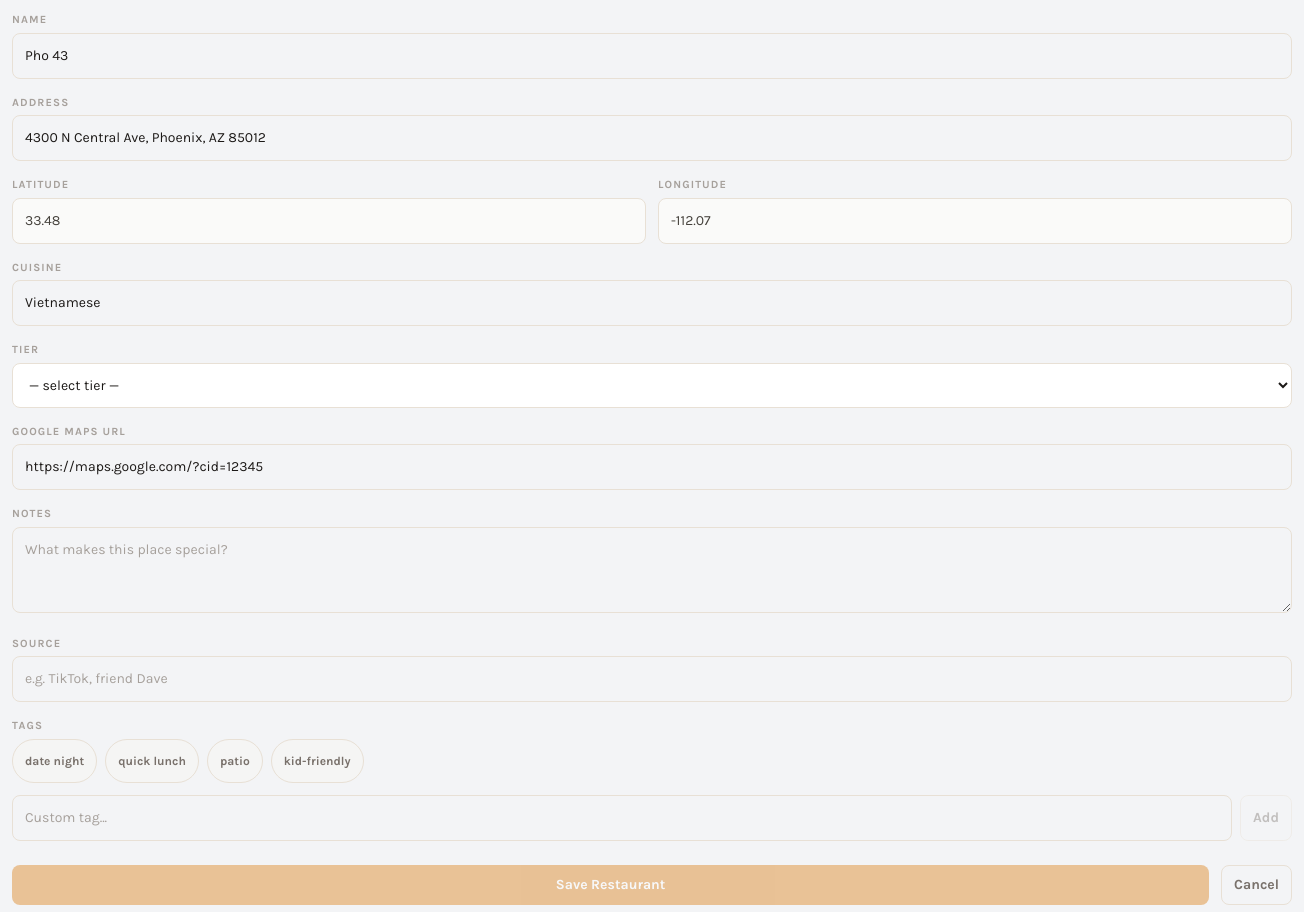
Test: RestaurantDraftForm — tags field (AC 1, 2) › pressing Enter in custom tag input adds the custom tag
In the field with test id "custom-tag-input": [622, 818] box [12,794,1232,840], type "brunch spot"
Then press Enter
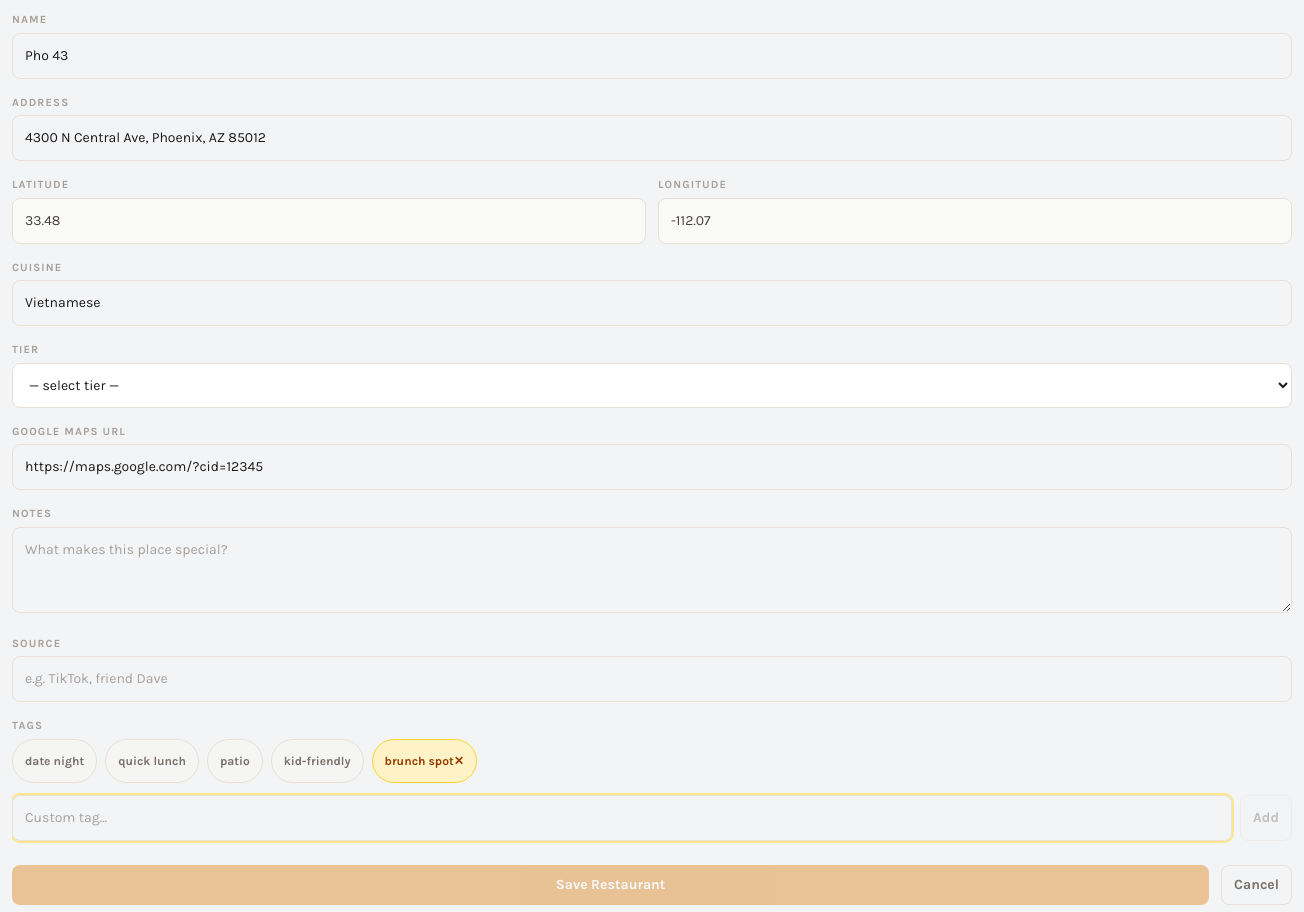
Check: the button with aria-label "remove tag: brunch spot" is shown, box [372,738,477,782]
